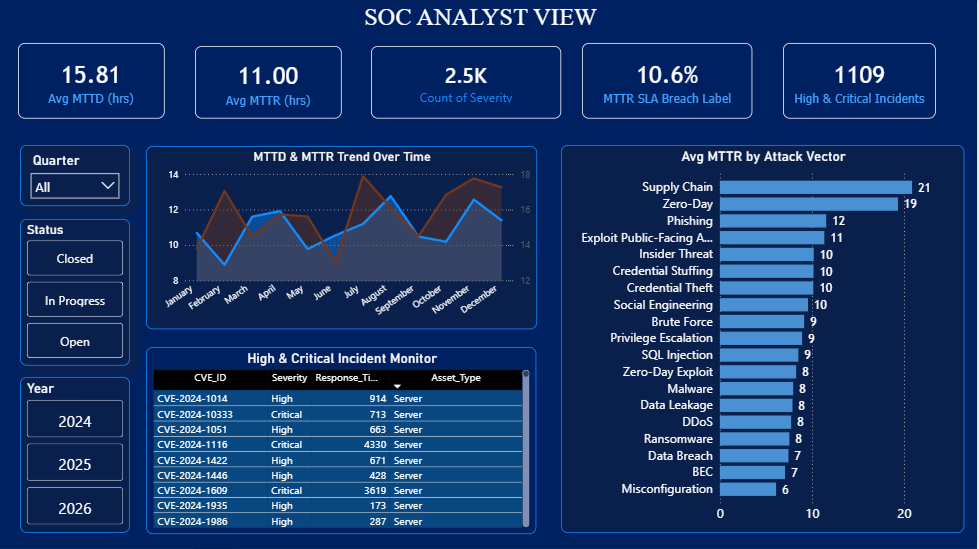

This screenshot's page, from the dashboard's own definition file:
{"tool":"powerbi","page":{"name":"SOC View","canvas":[1280,720],"ordinal":1},"visuals":[{"type":"shape","box":[0,231.8,1280.2,56.2],"z":0},{"type":"textbox","box":[368.6,0,522.7,57.6],"z":1000},{"type":"card","fields":{"Values":["Dim_measures.Avg MTTD (hrs)"]},"box":[24.5,57.6,191.5,99.4],"z":2000},{"type":"card","fields":{"Values":["Dim_measures.Avg MTTR (hrs)"]},"box":[256.3,61.9,191.5,95],"z":3000},{"type":"card","fields":{"Values":["Dim_measures.MTTR SLA Breach %"]},"box":[763.2,57.6,223.2,99.4],"z":4000},{"type":"card","fields":{"Values":["Dim_measures.High & Critical Incidents"]},"box":[1026.7,57.6,200.2,99.4],"z":5000},{"type":"lineChart","title":"MTTD & MTTR Trend Over Time","fields":{"Category":["Dim_Date.Month Name"],"Y":["Dim_measures.Avg MTTR (hrs)"],"Y2":["Dim_measures.Avg MTTD (hrs)"]},"box":[192,192,512,240],"z":6000},{"type":"clusteredBarChart","title":"Avg MTTR by Attack Vector","fields":{"Category":["Fact_Incidents.Attack_Vector"],"Y":["Dim_measures.Avg MTTR (hrs)"]},"box":[735.8,191.5,528.5,508.3],"z":7000},{"type":"tableEx","title":"High & Critical Incident Monitor","fields":{"Values":["Fact_Incidents.CVE_ID","Fact_Incidents.Severity","Fact_Incidents.Response_Time_Min","Dim_Asset.Asset_Type"]},"box":[193,455,511.2,244.8],"z":8000},{"type":"advancedSlicerVisual","fields":{"Values":["Dim_Date.Year"]},"box":[27.4,495.4,144,204.5],"z":9000},{"type":"advancedSlicerVisual","title":"Status","fields":{"Values":["Fact_Incidents.Incident_Status"]},"box":[27.1,287.7,144,192],"z":10000},{"type":"slicer","fields":{"Values":["Dim_Date.Fiscal Quarter"]},"box":[27.1,191.7,144,80],"z":11000},{"type":"cardVisual","fields":{"Data":["CountNonNull(Fact_Incidents.Severity)"]},"box":[486.7,61.9,249.1,95],"z":12000}]}

Visuals, with their boxes in screenshot pixels (x1, y1, x2, y2), scaled from the page's 1280x720 canvas onto the 979x549 screenshot:
shape: x1=0 y1=177 x2=978 y2=220
textbox: x1=282 y1=0 x2=682 y2=44
card - Dim_measures.Avg MTTD (hrs): x1=19 y1=44 x2=165 y2=120
card - Dim_measures.Avg MTTR (hrs): x1=196 y1=47 x2=342 y2=120
card - Dim_measures.MTTR SLA Breach %: x1=584 y1=44 x2=754 y2=120
card - Dim_measures.High & Critical Incidents: x1=785 y1=44 x2=938 y2=120
"MTTD & MTTR Trend Over Time" lineChart: x1=147 y1=146 x2=538 y2=329
"Avg MTTR by Attack Vector" clusteredBarChart: x1=563 y1=146 x2=967 y2=534
"High & Critical Incident Monitor" tableEx: x1=148 y1=347 x2=539 y2=534
advancedSlicerVisual - Dim_Date.Year: x1=21 y1=378 x2=131 y2=534
"Status" advancedSlicerVisual: x1=21 y1=219 x2=131 y2=366
slicer - Dim_Date.Fiscal Quarter: x1=21 y1=146 x2=131 y2=207
cardVisual - CountNonNull(Fact_Incidents.Severity): x1=372 y1=47 x2=563 y2=120
